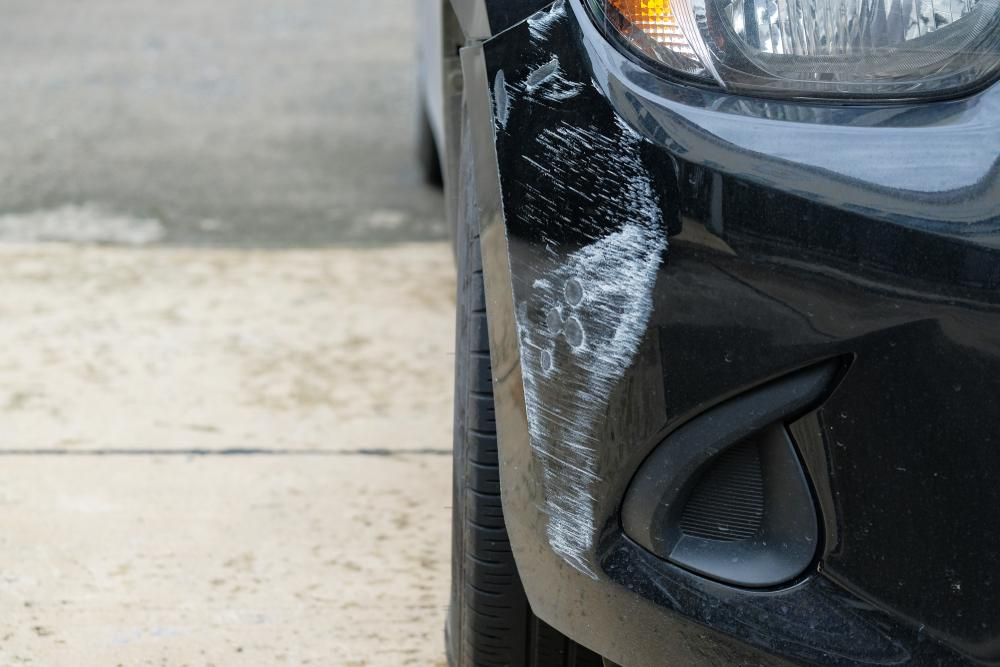scratch: (482, 0, 674, 586)
